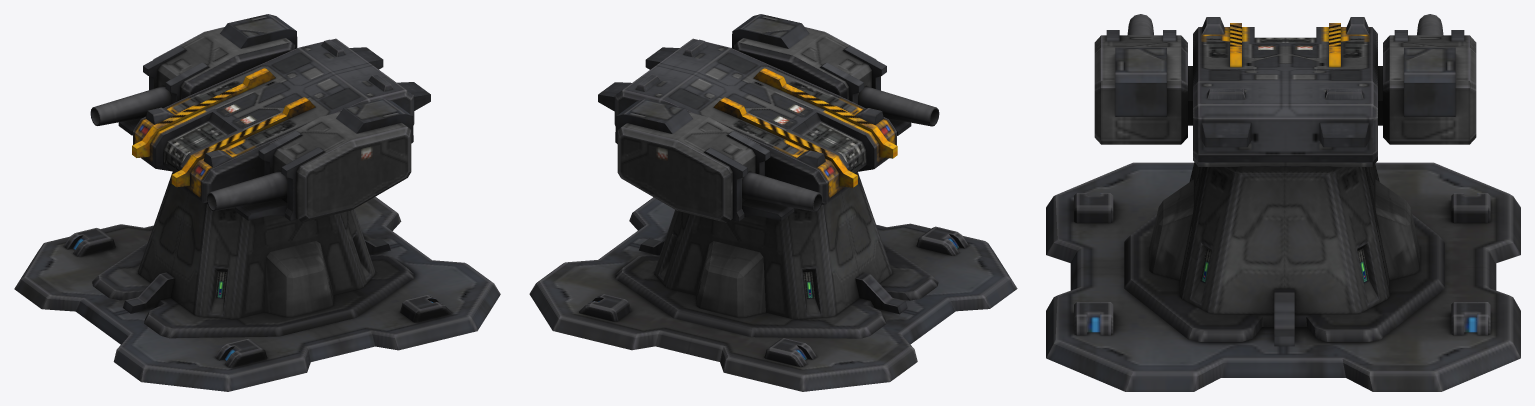
Rendered from Heavy_Defense-Tower.FBX.
The picture shows the model from 3 angles, left to right: view 1: azimuth 30°, elevation 25°; view 2: azimuth 150°, elevation 25°; view 3: azimuth 270°, elevation 25°; orthographic projection. The views are drawn at different scales.
Visible parts, largest first — view 1: Heavy_Defense-Tower, Heavy_Defense-Tower-Laser, Heavy_Defense-Tower-Turret; view 2: Heavy_Defense-Tower, Heavy_Defense-Tower-Laser, Heavy_Defense-Tower-Turret; view 3: Heavy_Defense-Tower, Heavy_Defense-Tower-Turret, Heavy_Defense-Tower-Laser.
Boxes of the visible parts, box(x1,y1,x2,y2) form: Heavy_Defense-Tower: box(14, 172, 500, 391); Heavy_Defense-Tower-Laser: box(90, 14, 413, 222); Heavy_Defense-Tower-Turret: box(132, 38, 430, 204); Heavy_Defense-Tower: box(529, 172, 1017, 391); Heavy_Defense-Tower-Laser: box(615, 14, 939, 222); Heavy_Defense-Tower-Turret: box(598, 38, 897, 204); Heavy_Defense-Tower: box(1046, 162, 1520, 391); Heavy_Defense-Tower-Turret: box(1188, 17, 1382, 166); Heavy_Defense-Tower-Laser: box(1094, 14, 1476, 144).
Bounding box in the file's own units: 1109 × 614 × 1019.
